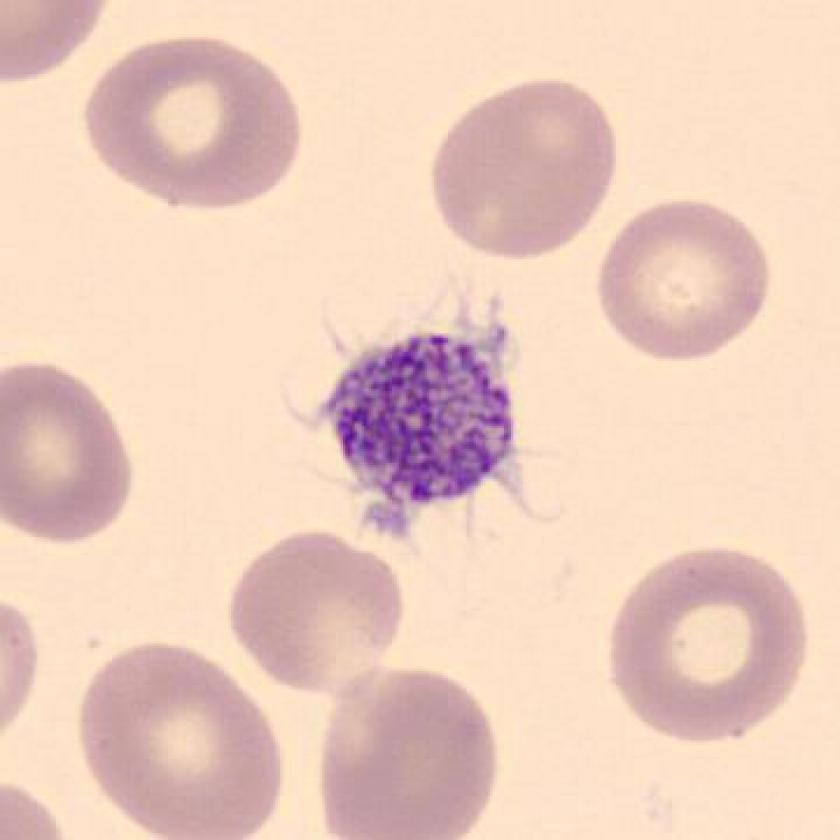platelets: (309, 311, 535, 531)
